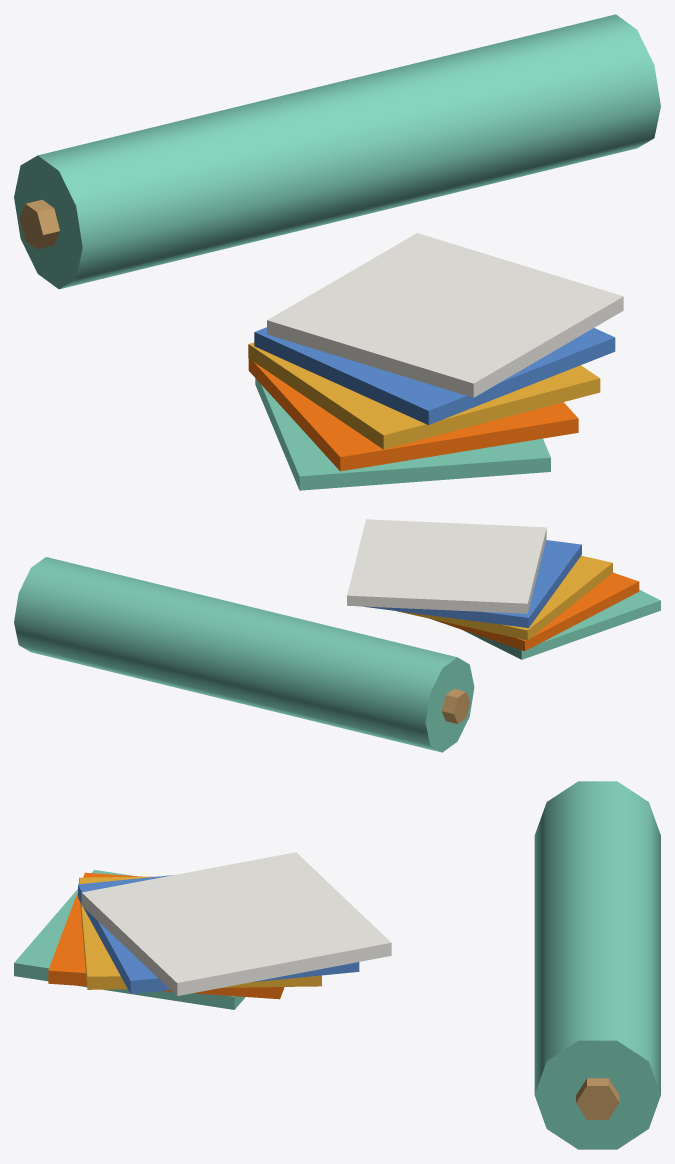
Rendered from station_intake_ausstattung_2_1.glb.
3 views of the same model, one above another, from view 1: azimuth 30°, elevation 25°; view 2: azimuth 150°, elevation 25°; view 3: azimuth 270°, elevation 25° (orthographic). The views are drawn at different scales.
Parts seen in each view (by area): view 1: station_intake_ausstattung_2_1; view 2: station_intake_ausstattung_2_1; view 3: station_intake_ausstattung_2_1.
Part boxes in pixels (x1,y1,x2,y2): station_intake_ausstattung_2_1: (14,14,660,490); station_intake_ausstattung_2_1: (14,519,660,752); station_intake_ausstattung_2_1: (14,781,660,1149).
Size of the model in its own units: 0.3633 by 0.0683 by 0.3583.
